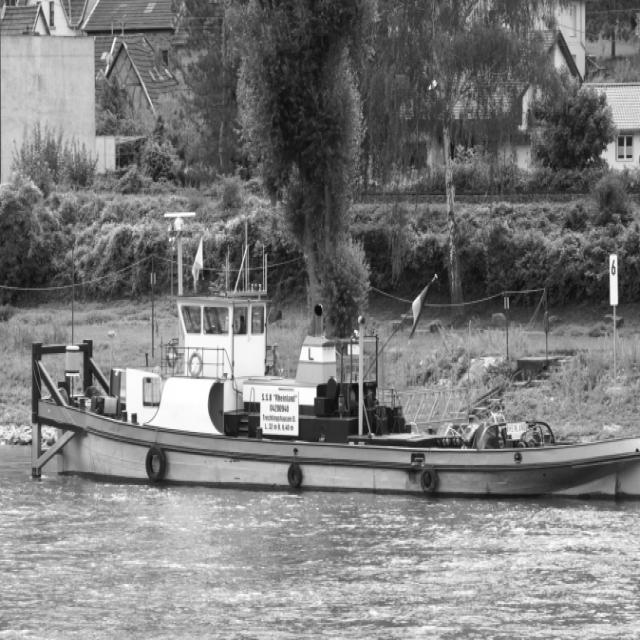tugboat: (29, 209, 640, 526)
